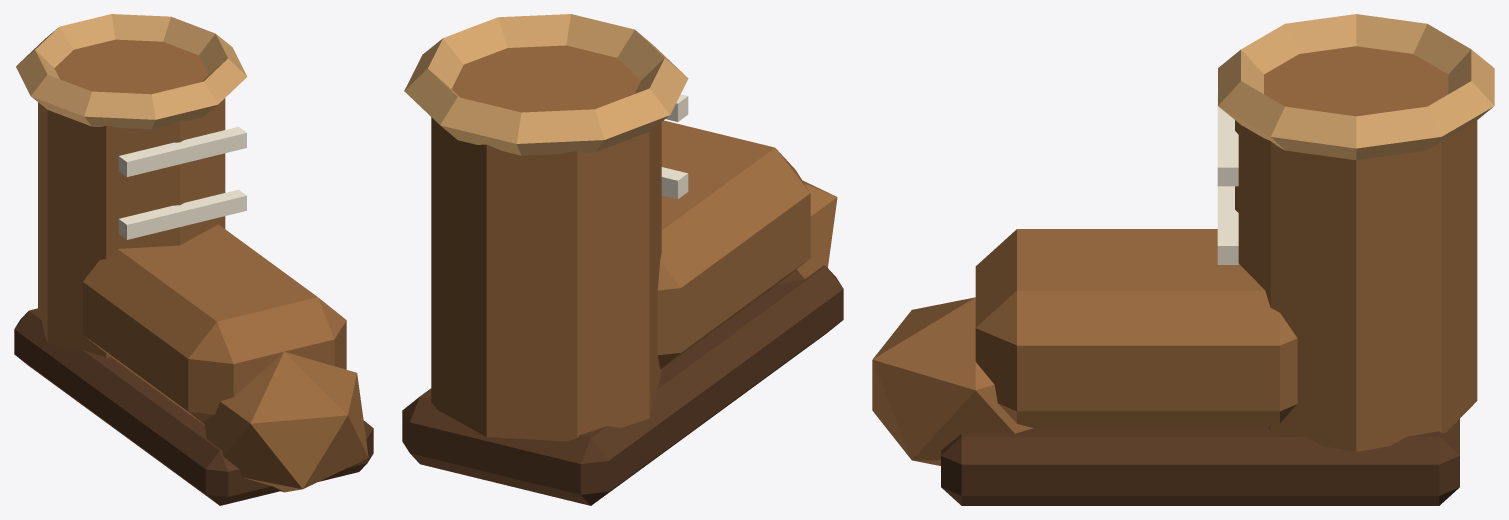
The model's file is fetch_boot.glb.
The picture shows the model from 3 angles, left to right: view 1: azimuth 30°, elevation 25°; view 2: azimuth 150°, elevation 25°; view 3: azimuth 270°, elevation 25°; orthographic projection. The views are drawn at different scales.
Parts seen in each view (by area): view 1: fetch_boot; view 2: fetch_boot; view 3: fetch_boot.
Part boxes in pixels (x1,y1,x2,y2): fetch_boot: (14,14,373,505); fetch_boot: (402,14,843,505); fetch_boot: (872,14,1494,505).
Size of the model in its own units: 0.084 by 0.13 by 0.1797.
